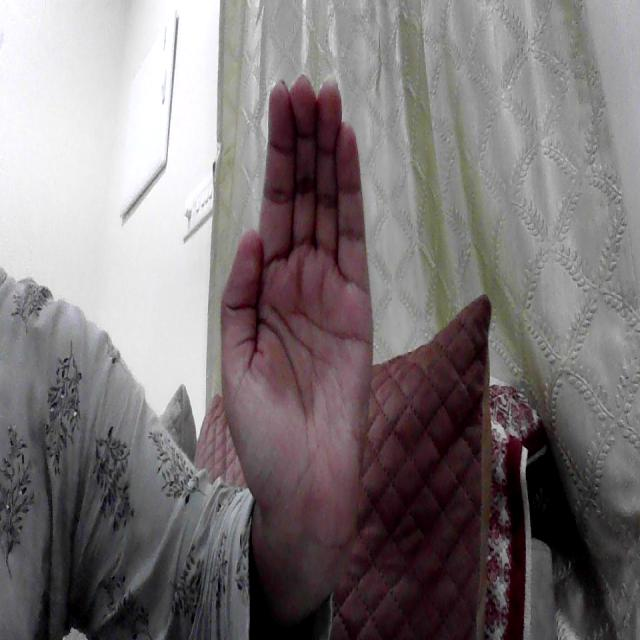Sarpashirsha: (213, 50, 390, 587)
